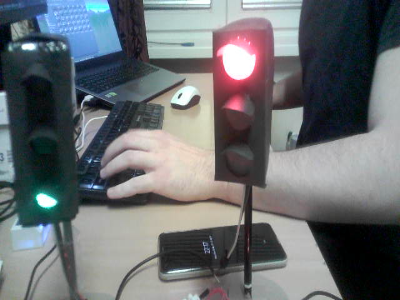trafficlight_green: (8, 46, 78, 213)
trafficlight_red: (213, 32, 264, 184)
